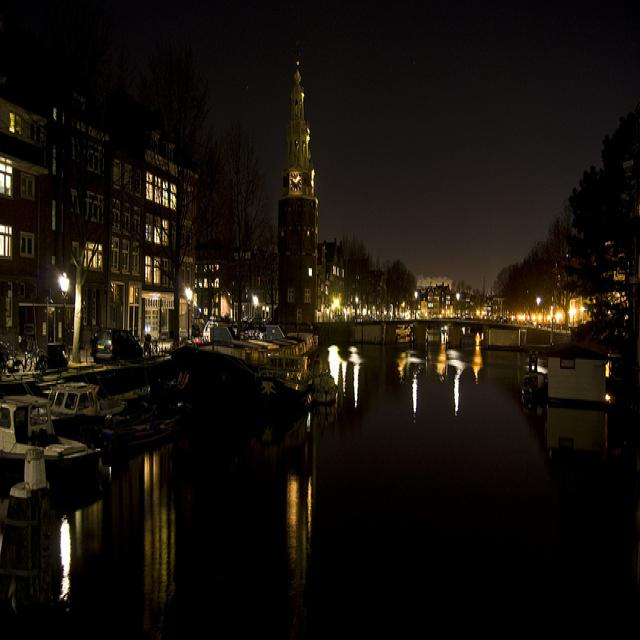Boat: (21, 350, 156, 479), (0, 393, 99, 526)
car: (86, 320, 147, 377)
